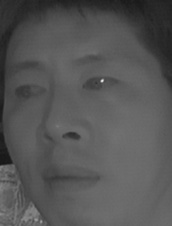eye: (81, 73, 120, 97), (11, 80, 46, 105)
mouth: (37, 162, 101, 199)
